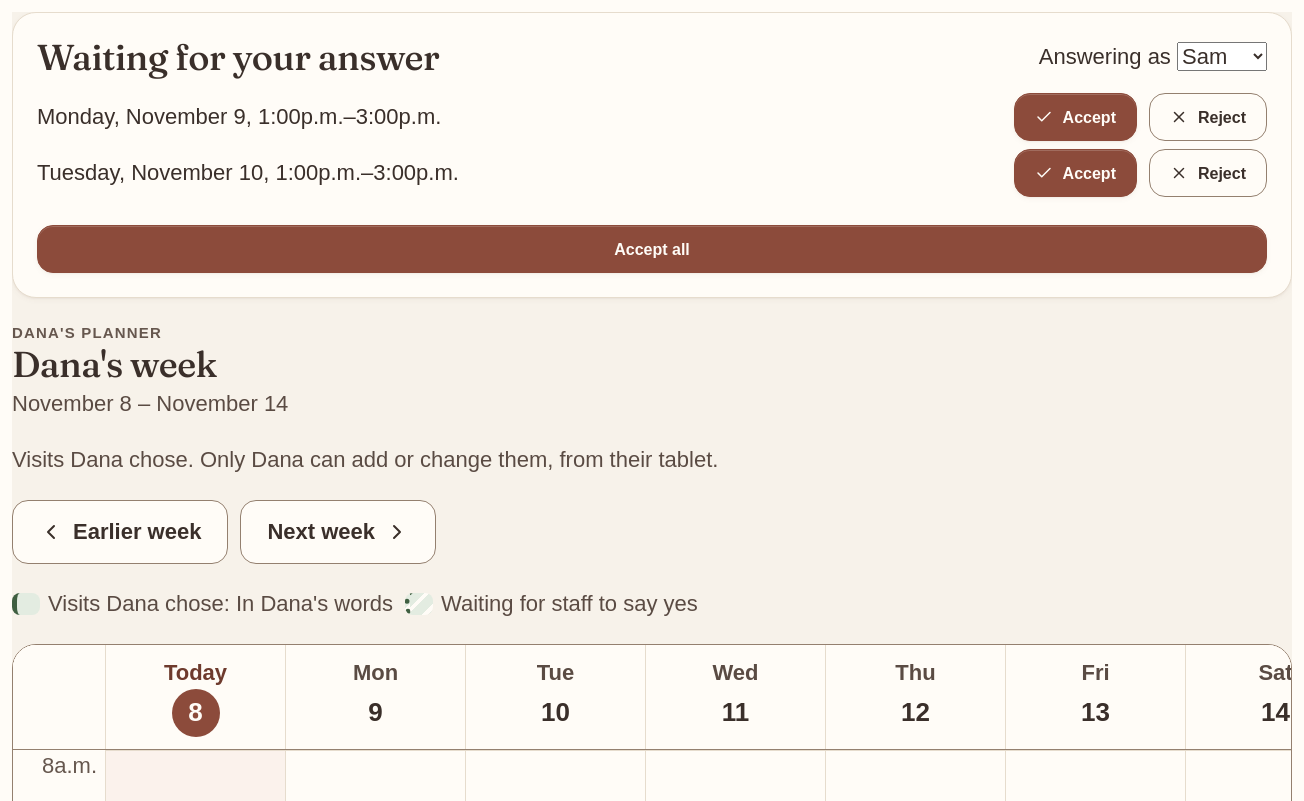
Test case: staff accept or reject (PROJECT_PLAN §2.5) › a refusal changes nothing and is shown
What coordinates should you click on to do the following:
click the button "Accept " in the row of "Monday, November 9, 1:00p.m.–3:00p.m."
I would click on:
 (1075, 117)
Its box is [1014, 93, 1137, 141].
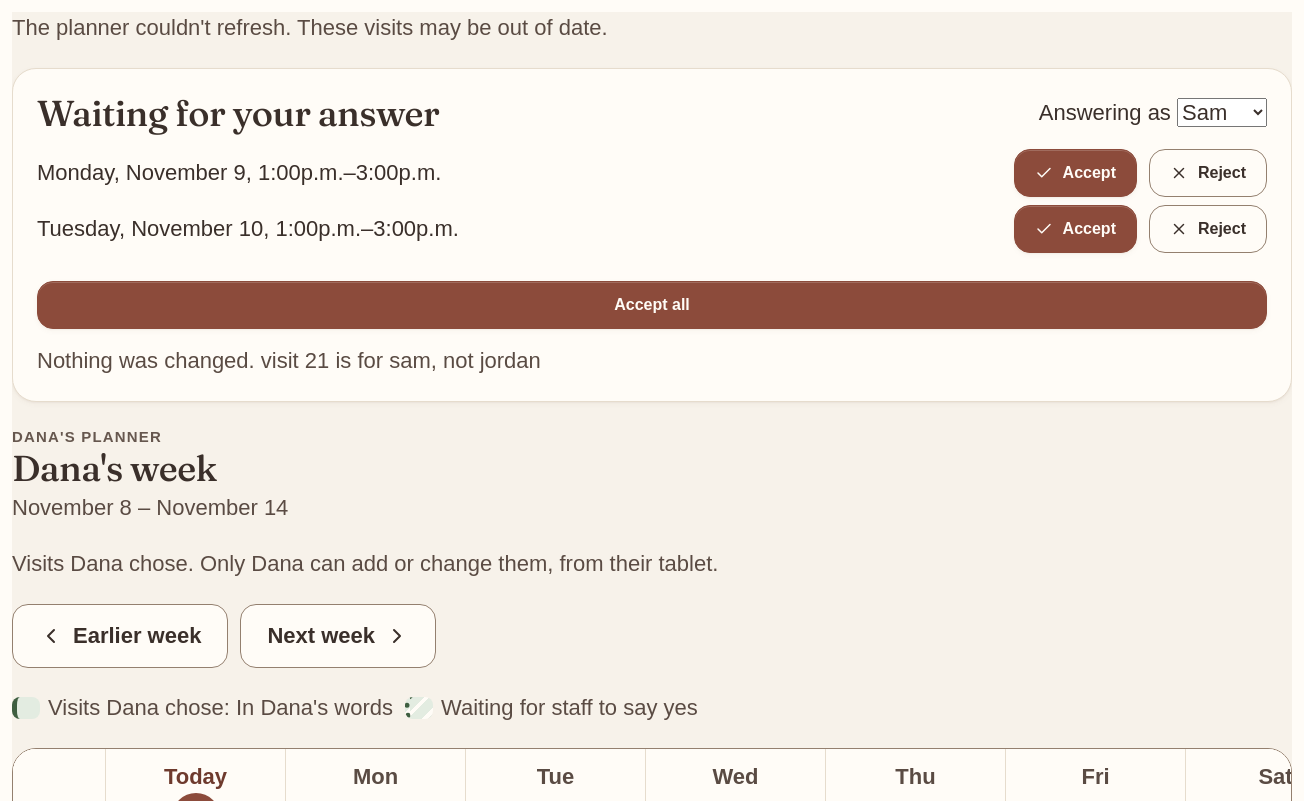
Expected: the text "Nothing was changed. visit 21 is for sam, not jordan" is shown, [37, 348, 541, 373]
